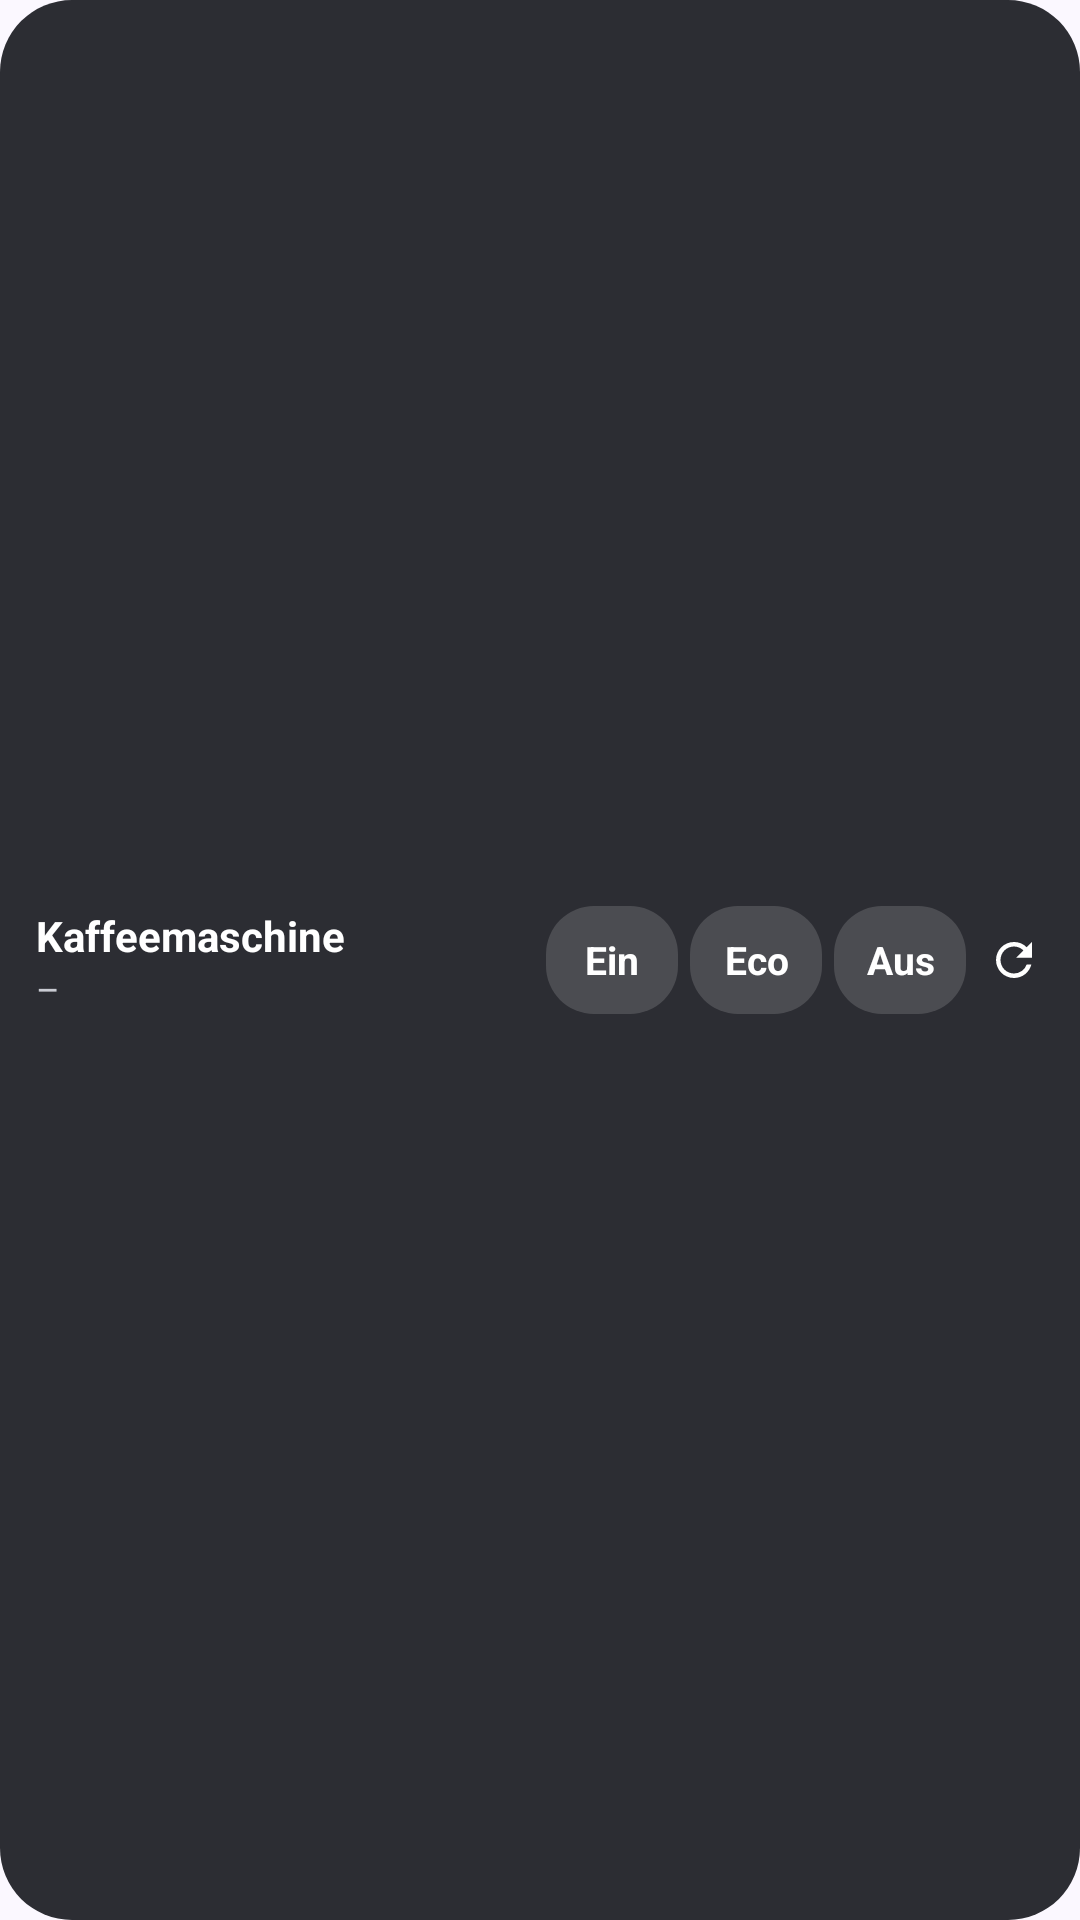

Icons on this 1080×1920 Android screen, each with its box as rect(x1, y1, x2, y2):
Aktualisieren: rect(996, 942, 1032, 978)
